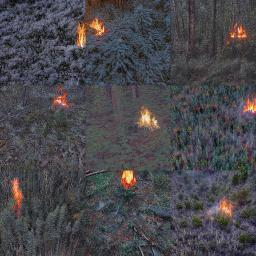Small fire: (71, 8, 114, 56), (201, 190, 246, 232), (45, 77, 81, 117), (3, 172, 31, 223), (133, 102, 166, 137), (221, 19, 255, 50), (231, 87, 256, 123), (117, 167, 143, 195)
